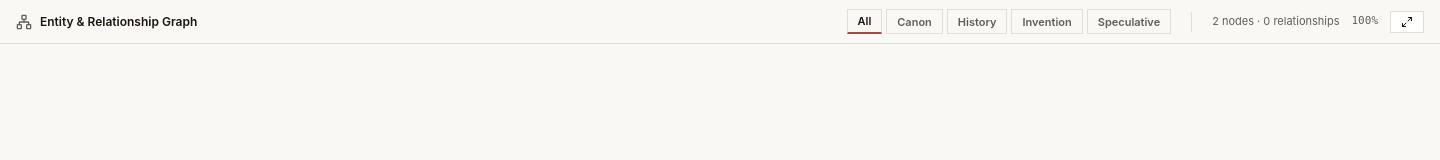
Test case: EntityGraphView › auto-falls back to all notes when a provenance filter matches nothing
This screenshot has width=1440, height=160.
Check: the text "2 nodes · 0 relationships" is shown, box [1212,13,1340,30]
Click the button "Canon". click: (915, 22)
box: [886,9,943,34]
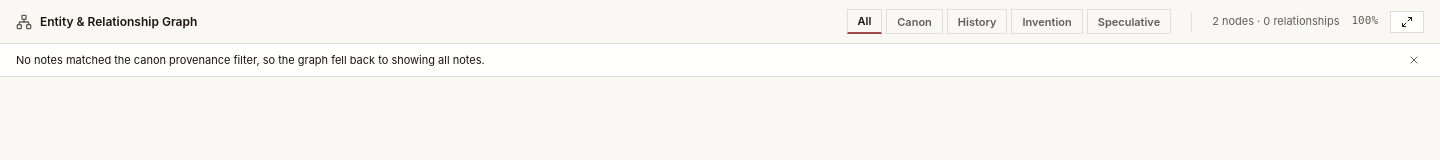
Check: the text "2 nodes · 0 relationships" is shown, box [1212,13,1340,30]
Check: the text "fell back to showing all notes" is shown, box [16,53,485,67]
